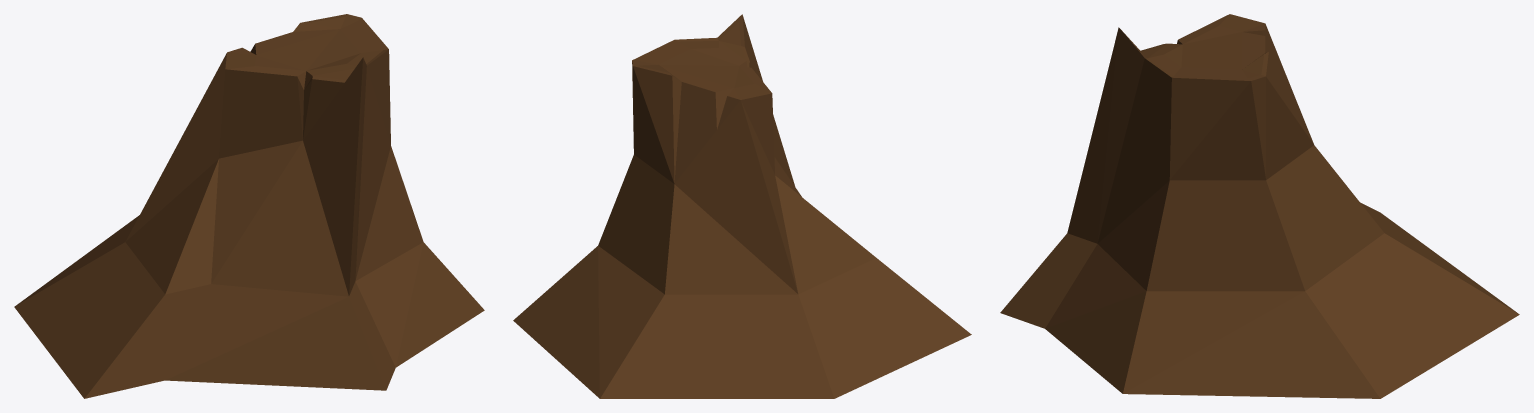
The model's file is SM_Tree_Spruce_Stump_A.fbx.
The picture shows the model from 3 angles, left to right: view 1: azimuth 30°, elevation 25°; view 2: azimuth 150°, elevation 25°; view 3: azimuth 270°, elevation 25°; orthographic projection. The views are drawn at different scales.
Parts seen in each view (by area): view 1: tree-spruce-stump-a; view 2: tree-spruce-stump-a; view 3: tree-spruce-stump-a.
Part boxes in pixels (left/top/right/bottom): tree-spruce-stump-a: left=14, top=14, right=484, bottom=398; tree-spruce-stump-a: left=513, top=14, right=971, bottom=398; tree-spruce-stump-a: left=1000, top=14, right=1519, bottom=398.
Size of the model in its own units: 1.27 by 0.8649 by 1.35.
